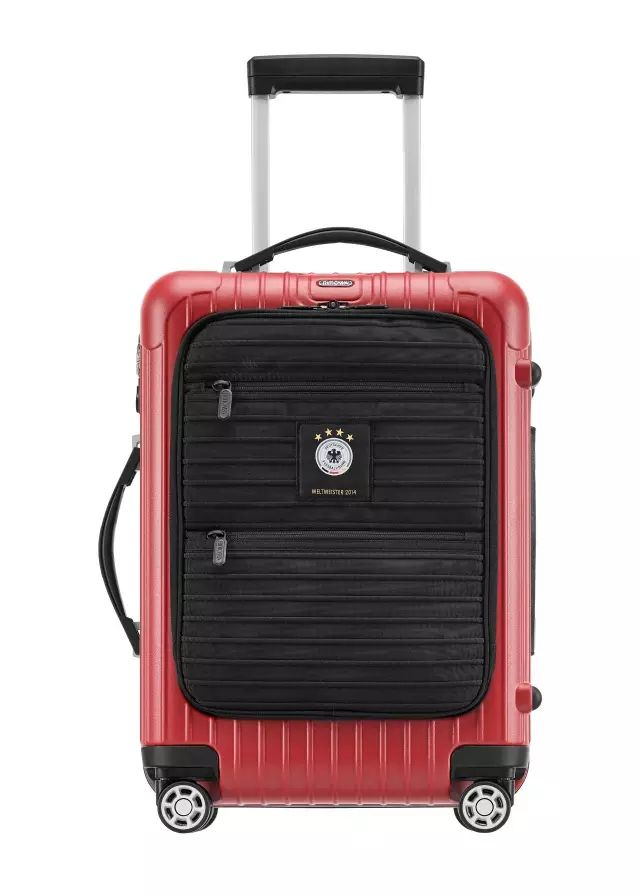suitcase: (98, 53, 545, 835)
